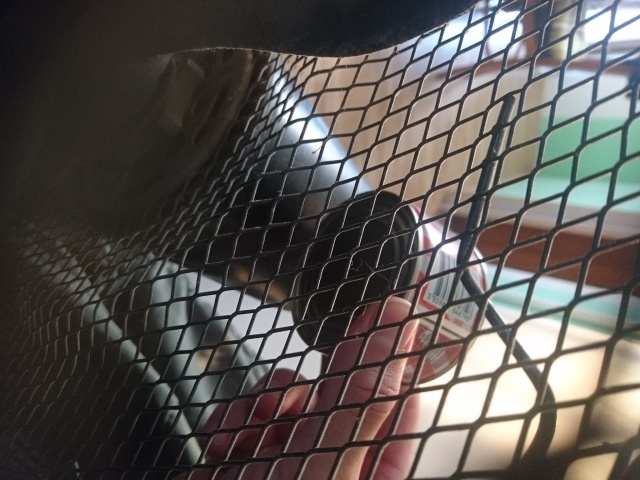Podravka Luncheon Meat 150g: (288, 187, 493, 389)
